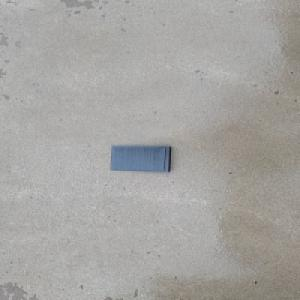PlasticPart: (108, 144, 173, 172)
